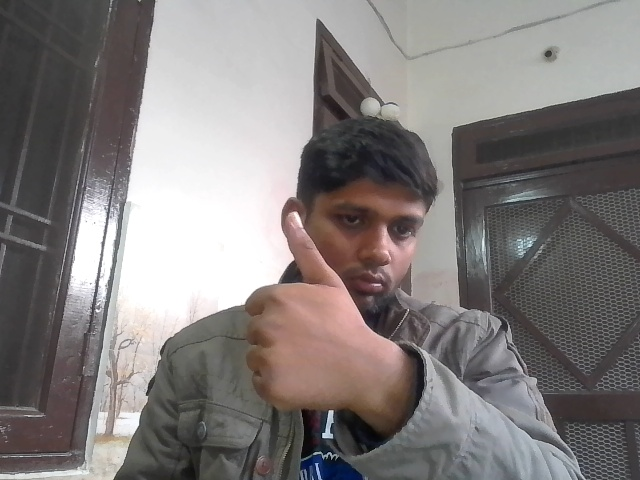BestOfLuck: (244, 209, 356, 420)
